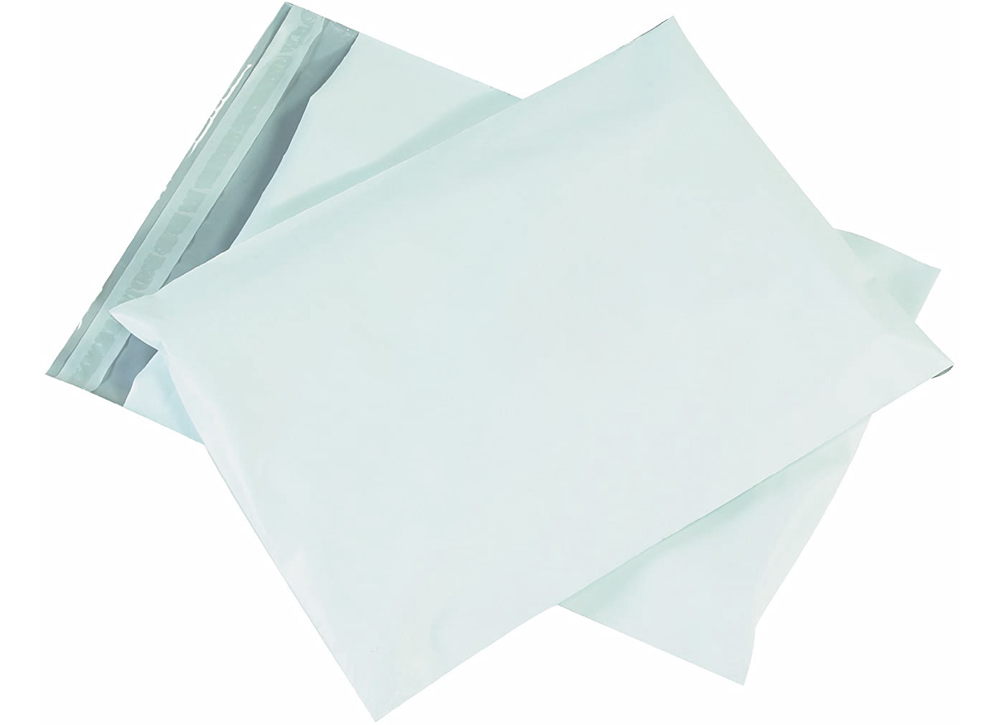塑料袋: (44, 6, 953, 715)
